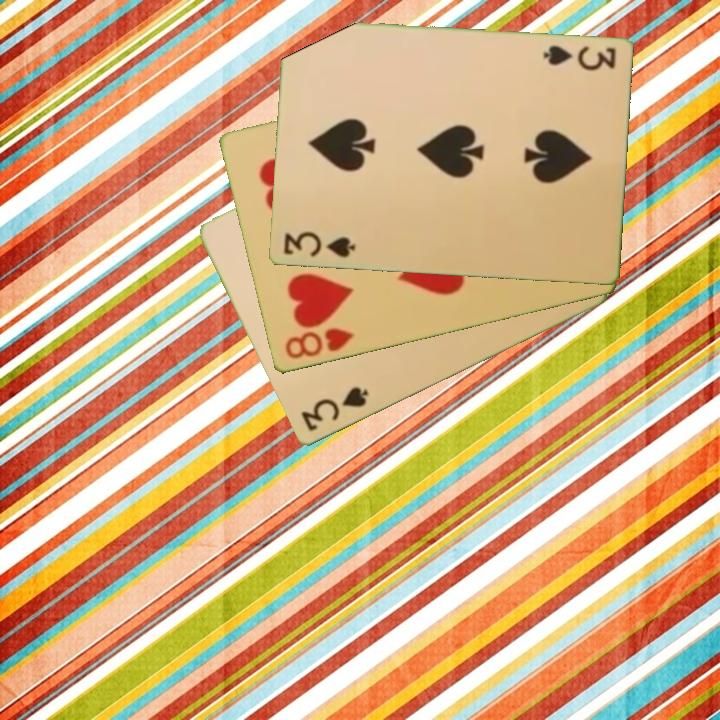3s: (297, 383, 372, 435), (279, 228, 358, 261), (539, 42, 618, 74)
8h: (281, 325, 357, 362)
